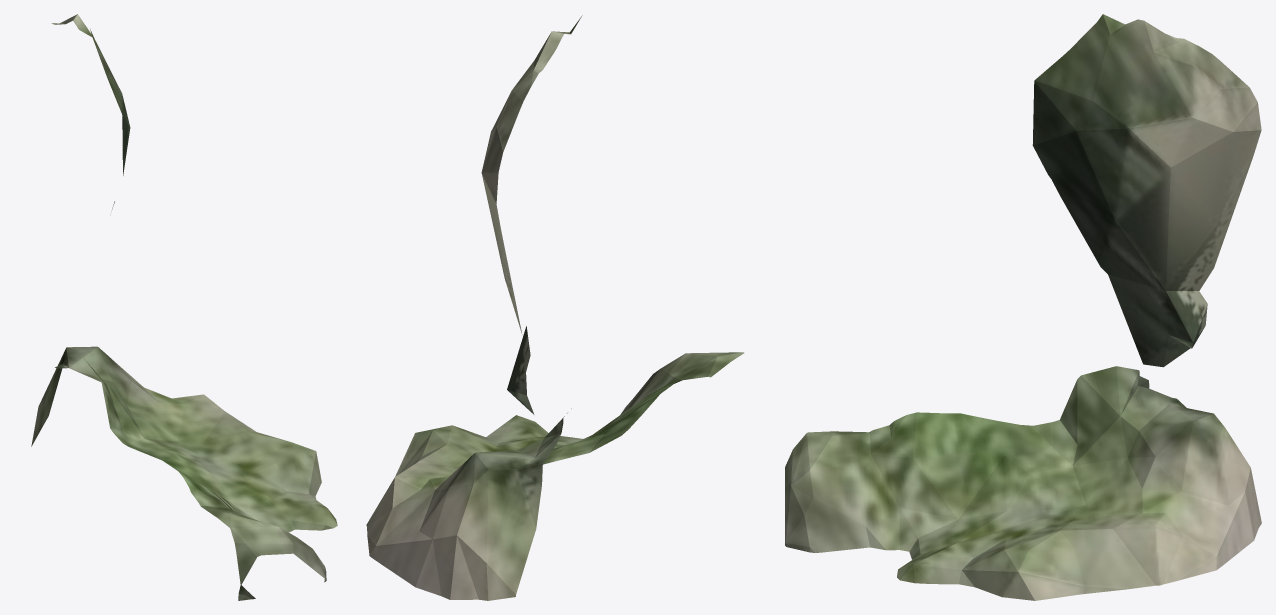
3 renders of one model, left to right at view 1: azimuth 30°, elevation 25°; view 2: azimuth 150°, elevation 25°; view 3: azimuth 270°, elevation 25°, orthographic. The views are drawn at different scales.
Bounding box in the file's own units: 1.35 × 3.13 × 2.77.
Materials: 1 (1 with a texture image).
